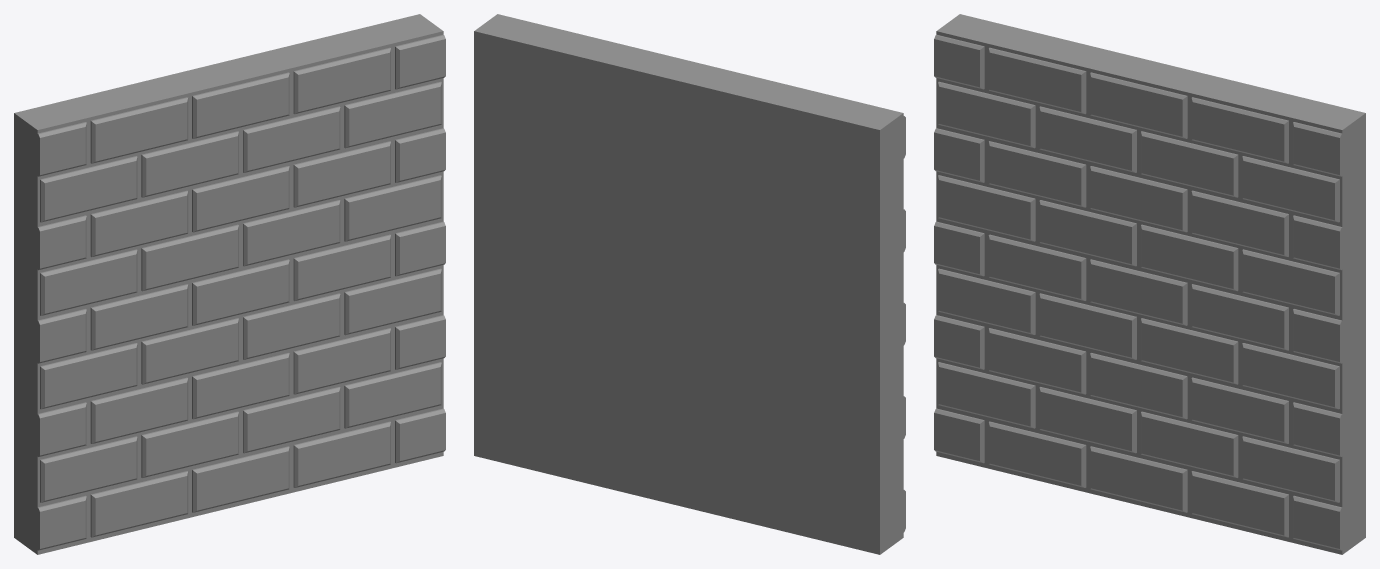
Rendered from Assets.fbx_BrickWall.fbx.
The picture shows the model from 3 angles, left to right: view 1: azimuth 30°, elevation 25°; view 2: azimuth 150°, elevation 25°; view 3: azimuth 330°, elevation 25°; orthographic projection.
Visible parts, largest first — view 1: BrickWall; view 2: BrickWall; view 3: BrickWall.
Part boxes in pixels (x1,y1,x2,y2): BrickWall: [14, 14, 445, 554]; BrickWall: [474, 14, 905, 554]; BrickWall: [934, 14, 1365, 554].
Bounding box in the file's own units: 200 × 200 × 22.
